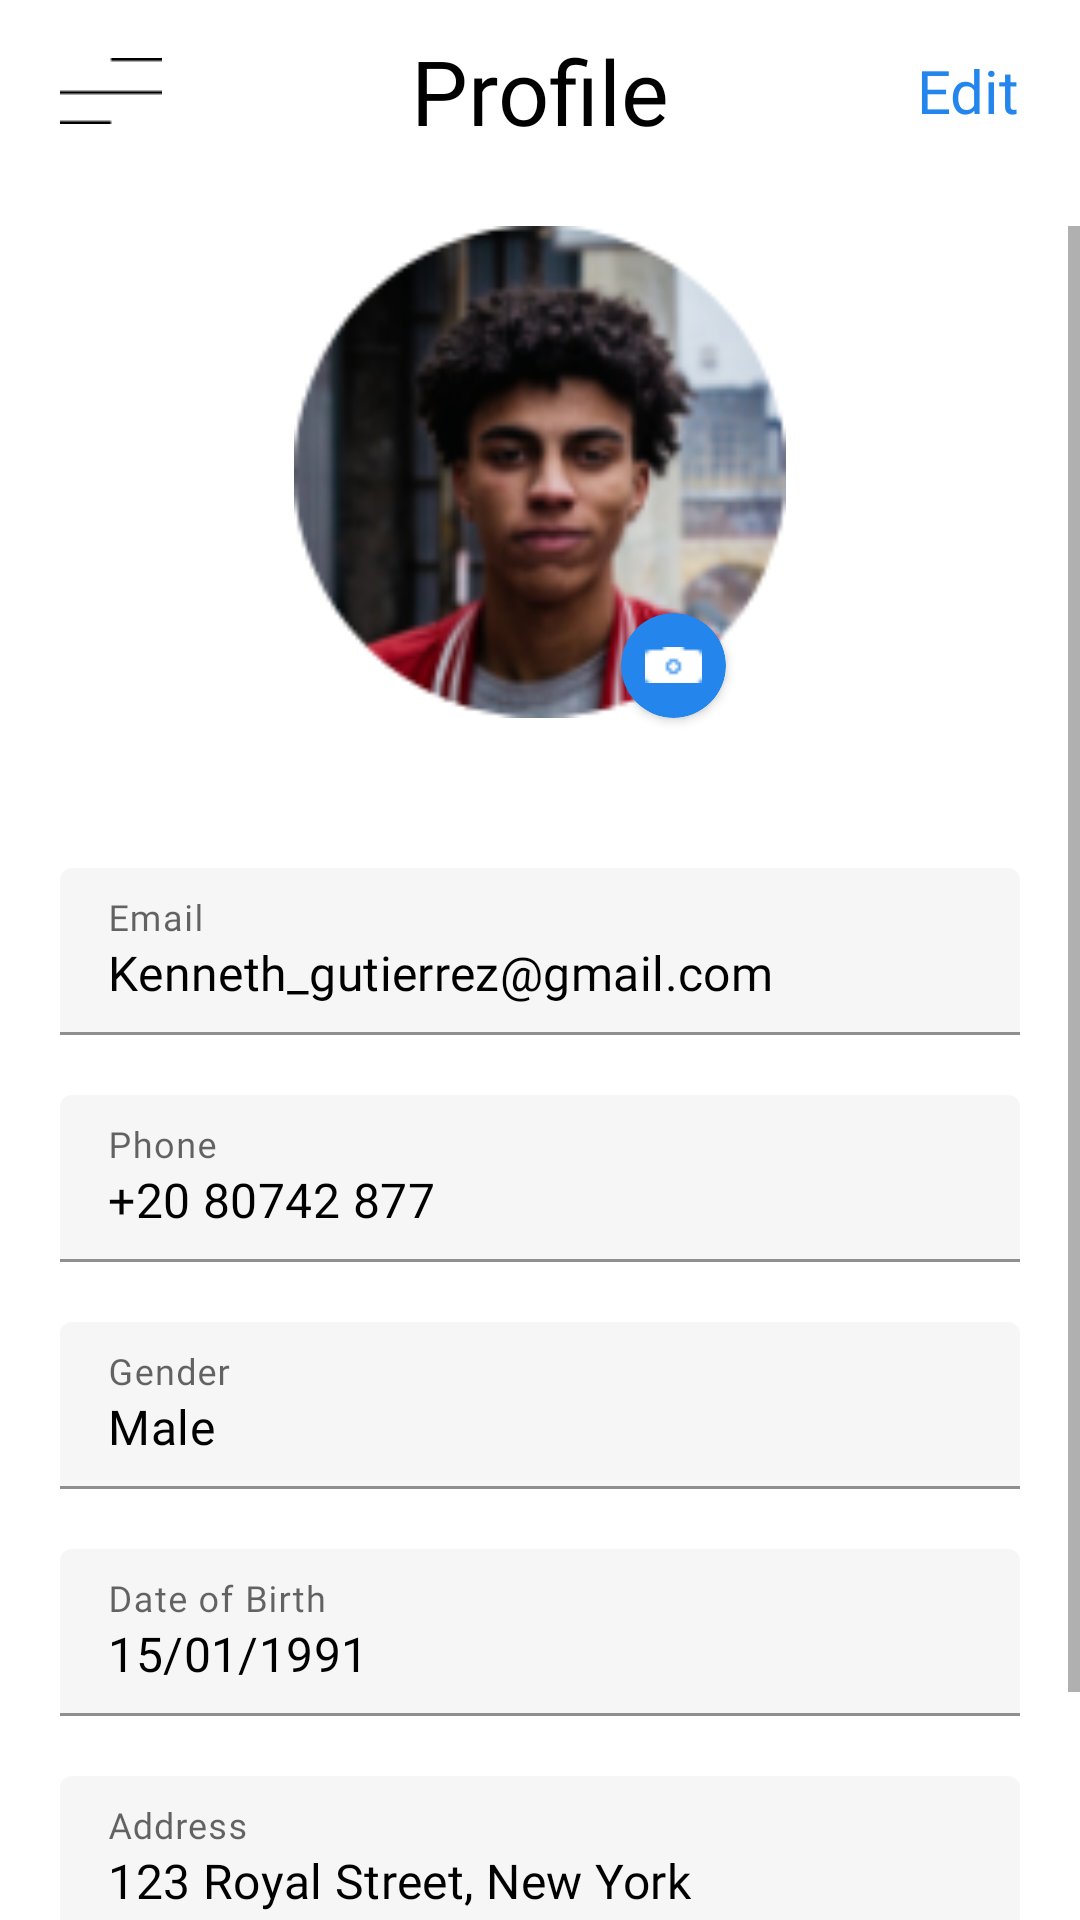

Icon bounding boxes for this 1080 x 1920 phone screenshot, format BBox(x1, y1, x2, y2):
lines menu: BBox(60, 58, 162, 124)
